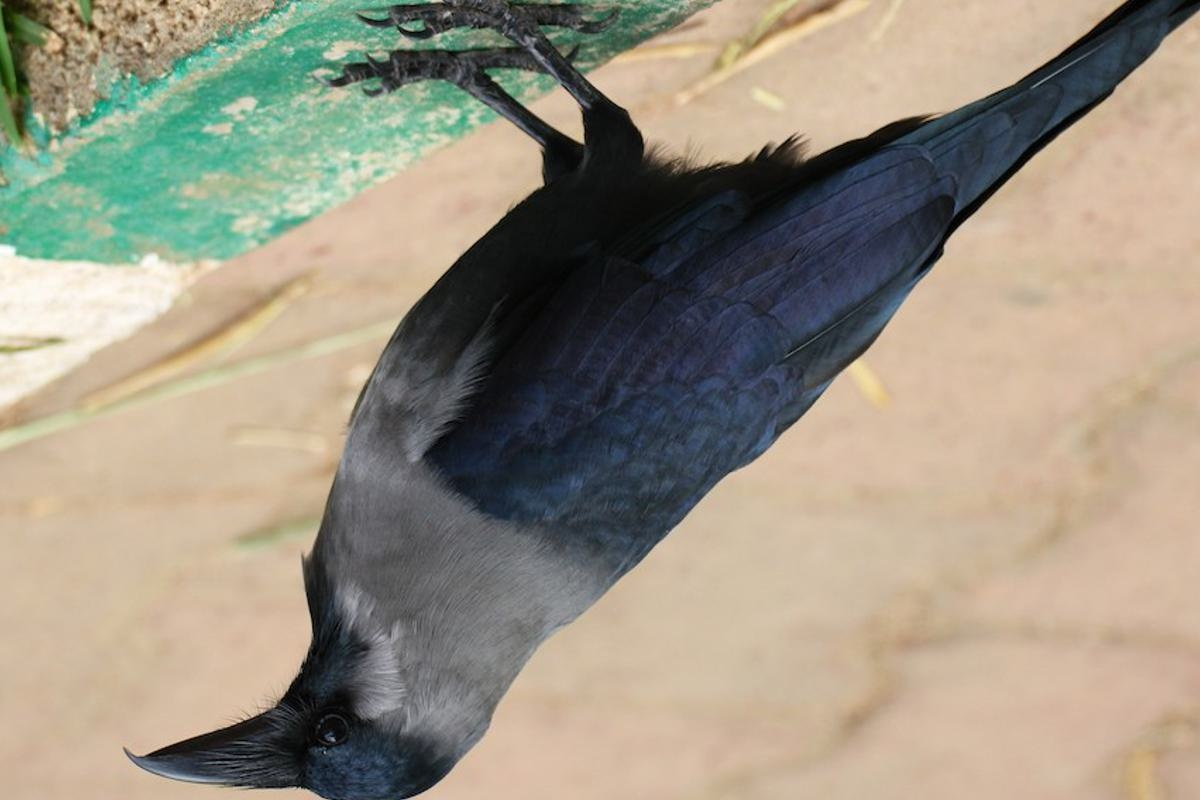crow: (121, 1, 1174, 793)
